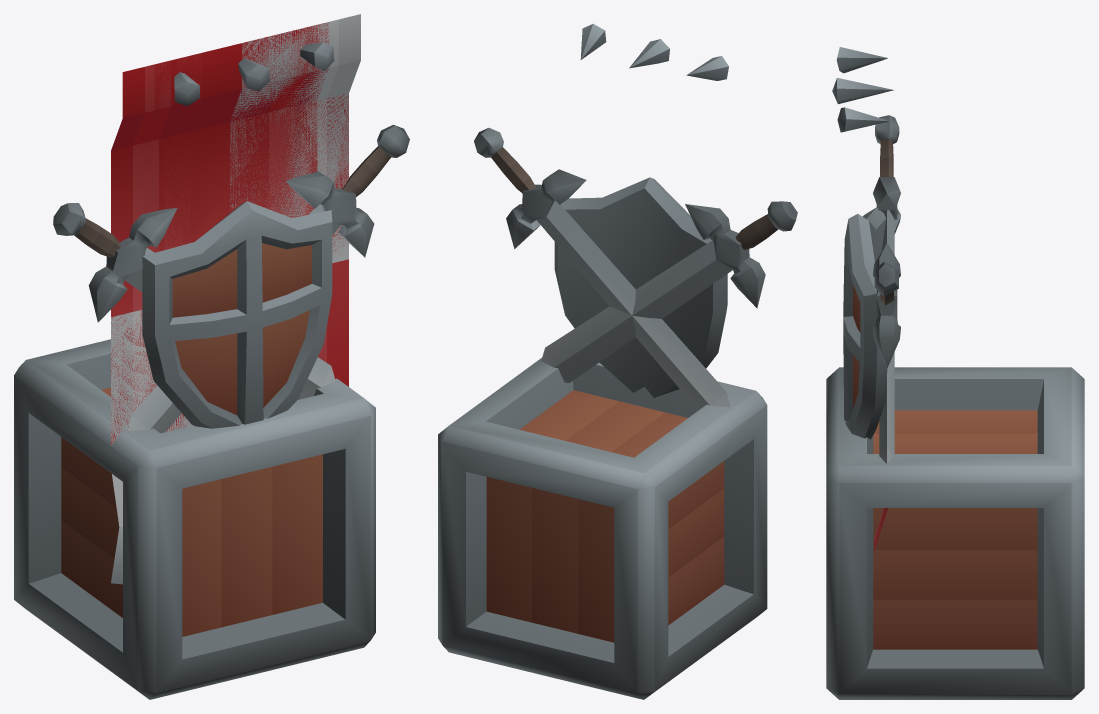
The model's file is townkit.glb.
3 renders of one model, left to right at view 1: azimuth 30°, elevation 25°; view 2: azimuth 150°, elevation 25°; view 3: azimuth 270°, elevation 25°, orthographic. The views are drawn at different scales.
Parts seen in each view (by area): view 1: box_large, banner_shield_red, banner_patternA_red, banner_thin_red; view 2: box_large, banner_shield_red, banner_patternA_red, banner_thin_red; view 3: box_large, banner_shield_red, banner_patternA_red, banner_thin_red.
Boxes of the visible parts, x1=… form: box_large: x1=14, y1=339, x2=375, y2=699; banner_shield_red: x1=53, y1=26, x2=409, y2=444; banner_patternA_red: x1=111, y1=14, x2=360, y2=584; banner_thin_red: x1=142, y1=22, x2=329, y2=394; box_large: x1=438, y1=357, x2=767, y2=699; banner_shield_red: x1=474, y1=128, x2=797, y2=410; banner_patternA_red: x1=580, y1=23, x2=728, y2=80; banner_thin_red: x1=629, y1=39, x2=669, y2=68; box_large: x1=826, y1=367, x2=1084, y2=699; banner_shield_red: x1=843, y1=115, x2=900, y2=463; banner_patternA_red: x1=836, y1=47, x2=889, y2=551; banner_thin_red: x1=832, y1=77, x2=893, y2=104.
Bounding box in the file's own units: 2.23 × 3.73 × 1.5.
